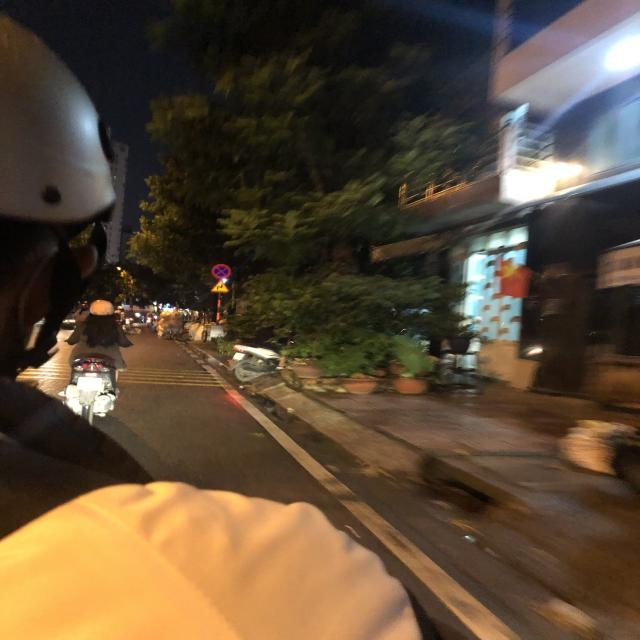Bien bao cam dung xe va do xe: (209, 262, 234, 279)
Bien bao nhieu cho ngoat nguy hiem lien tiep: (209, 279, 231, 293)
